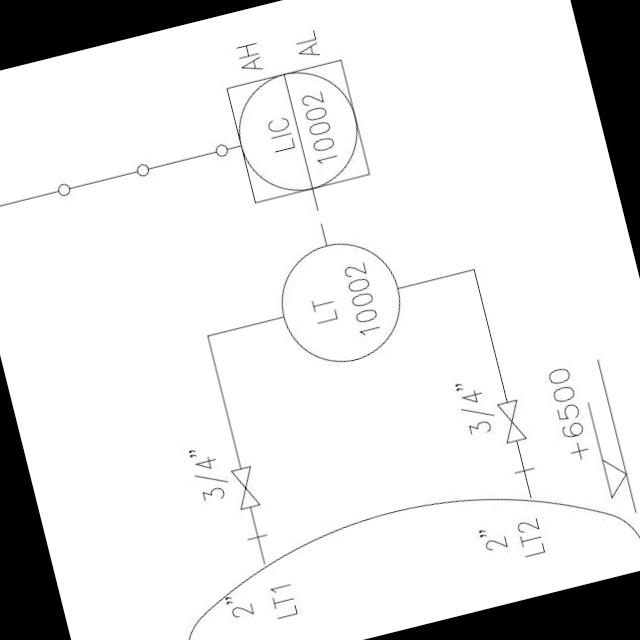GV: (222, 457, 264, 516), (490, 393, 530, 449)
